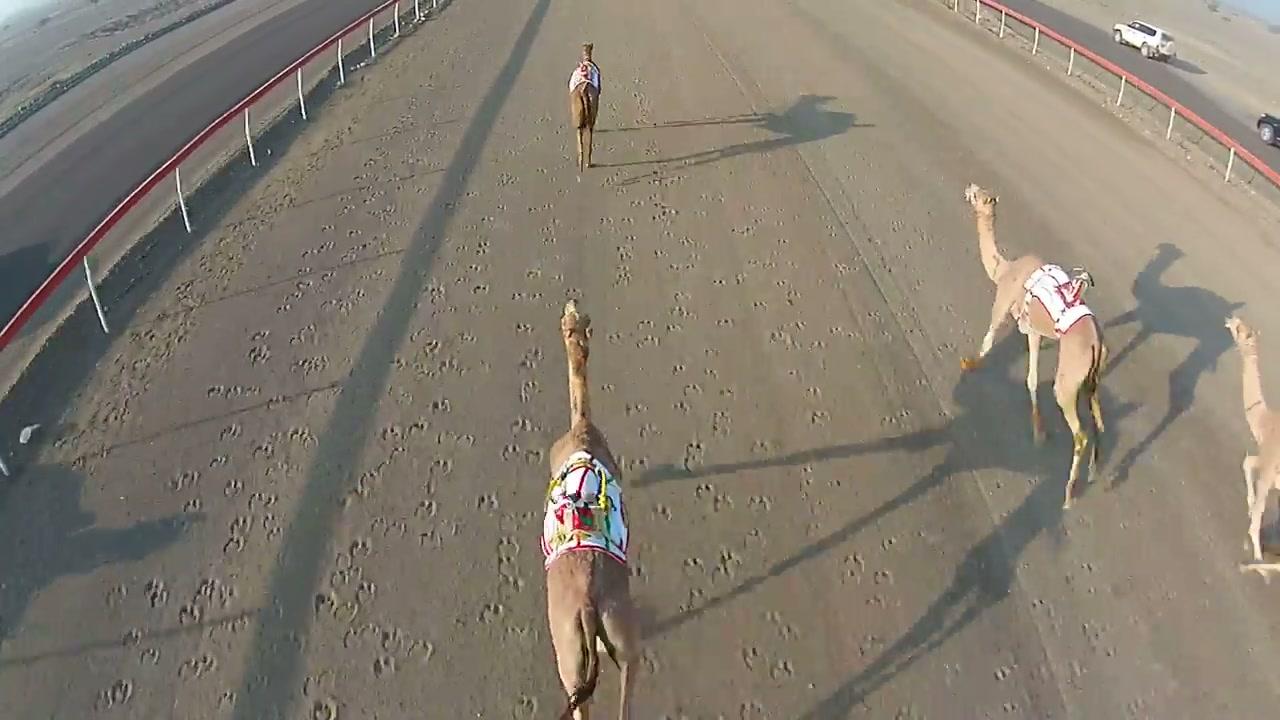animal_foot_print: (286, 157, 577, 719), (564, 160, 860, 702), (98, 182, 380, 706)
